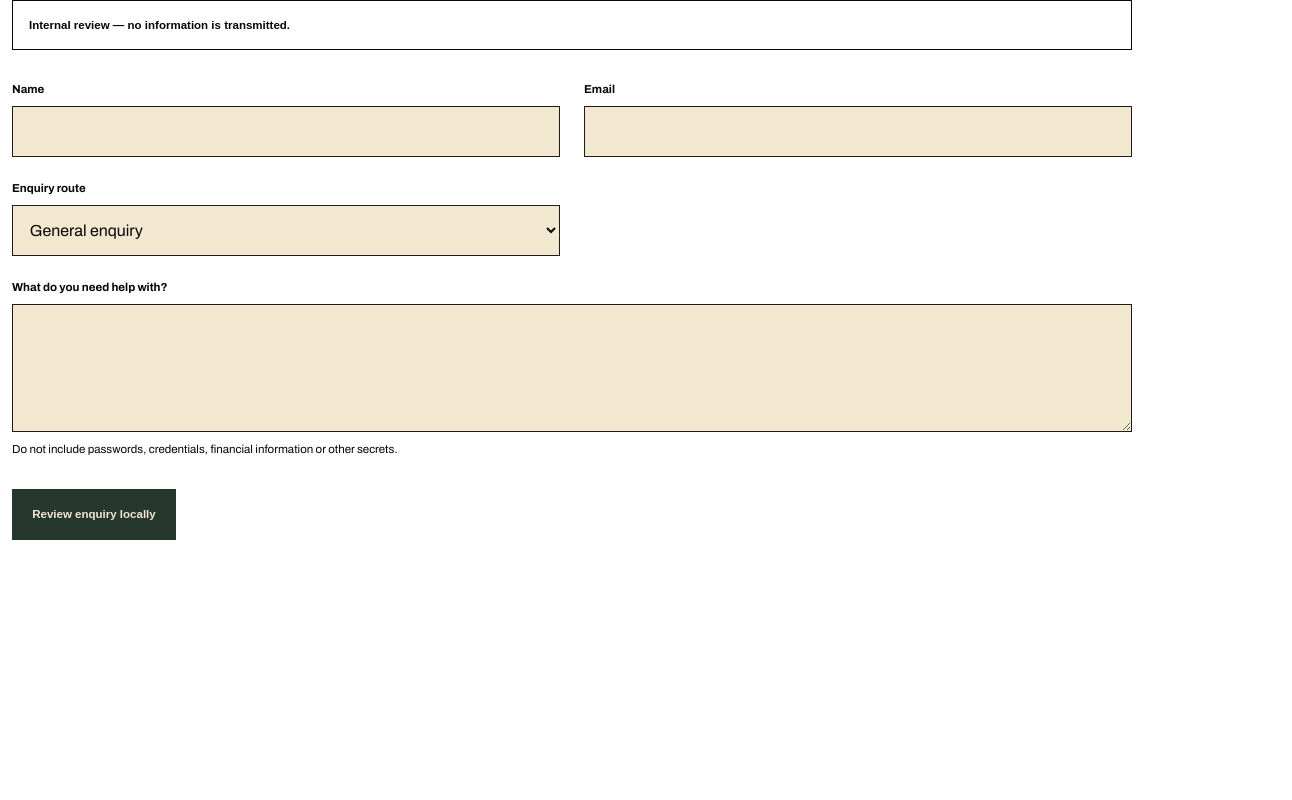
Test: Atlas W7 › validates contact locally without fetch
Click the button "Review enquiry locally": {"x": 94, "y": 514} [12,489,176,540]
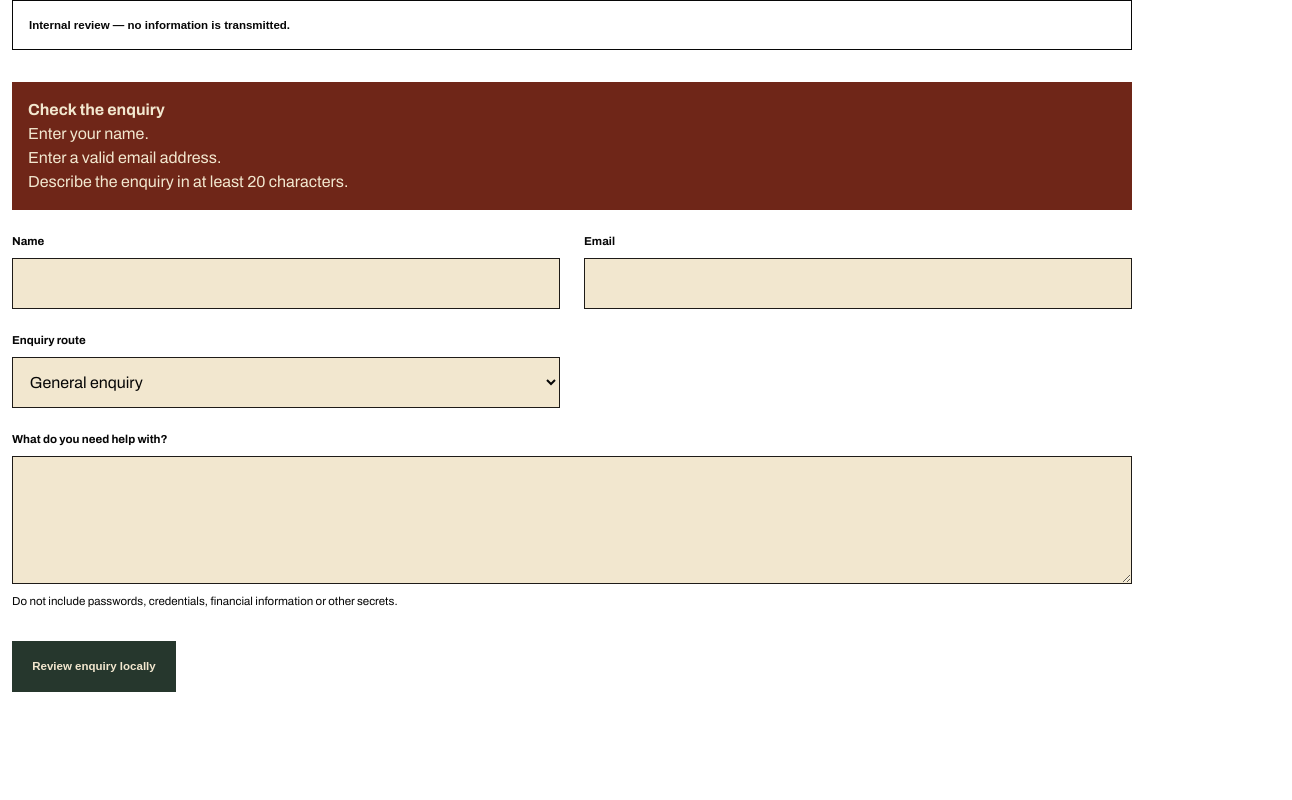
Check: the message shows "Enter your name", box [28,125,149,142]
